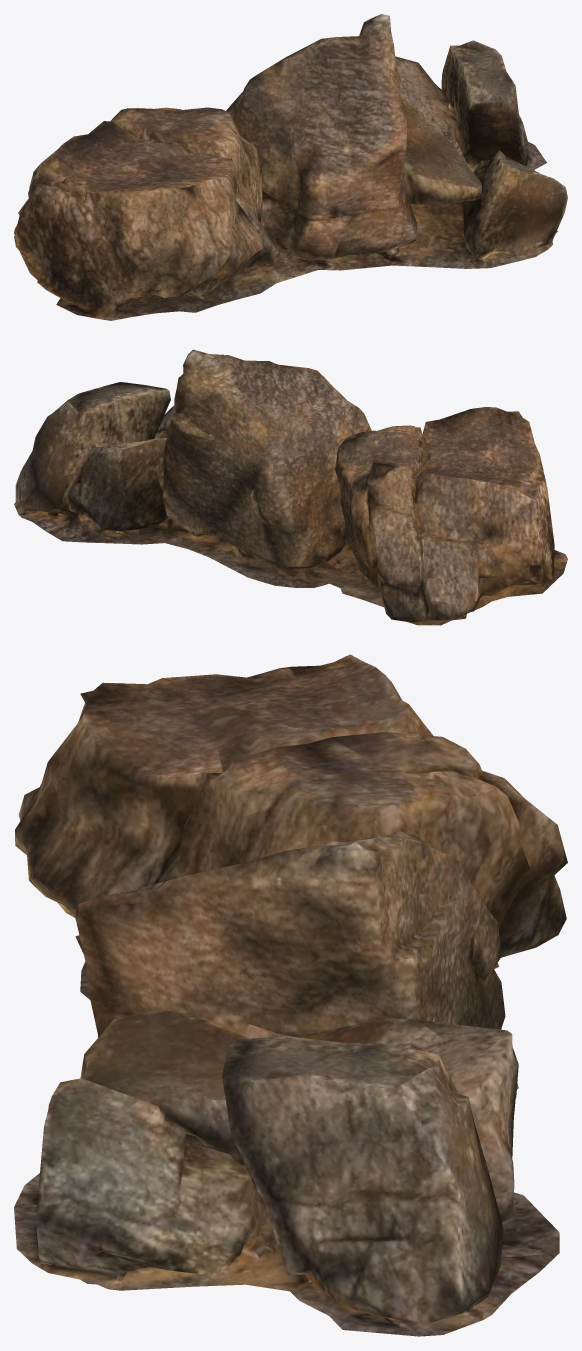
Rendered from namaqualand_boulder_02.glb.
The picture shows the model from 3 angles, top to bottom: view 1: azimuth 30°, elevation 25°; view 2: azimuth 150°, elevation 25°; view 3: azimuth 270°, elevation 25°; orthographic projection. The views are drawn at different scales.
Parts seen in each view (by area): view 1: boulder_02; view 2: boulder_02; view 3: boulder_02.
Boxes of the visible parts, box(x1,y1,x2,y2) form: boulder_02: box(14, 14, 567, 320); boulder_02: box(14, 349, 567, 625); boulder_02: box(14, 654, 567, 1336).
Bounding box in the file's own units: 2.53 × 0.8804 × 1.23.
Materials: 1 (1 with a texture image).
